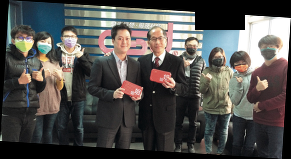with_mask: (14, 34, 35, 53), (260, 42, 279, 62), (37, 38, 53, 56), (62, 33, 77, 49), (235, 60, 250, 74), (211, 54, 225, 68), (186, 43, 198, 57)
without_mask: (114, 34, 133, 54), (149, 34, 166, 52)
